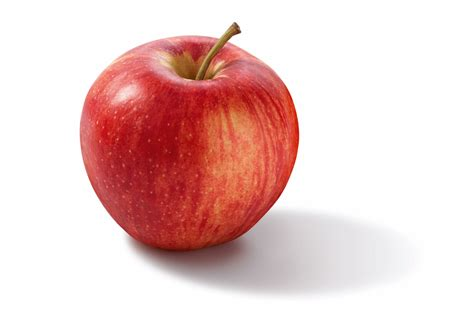apple: (78, 21, 304, 253)
